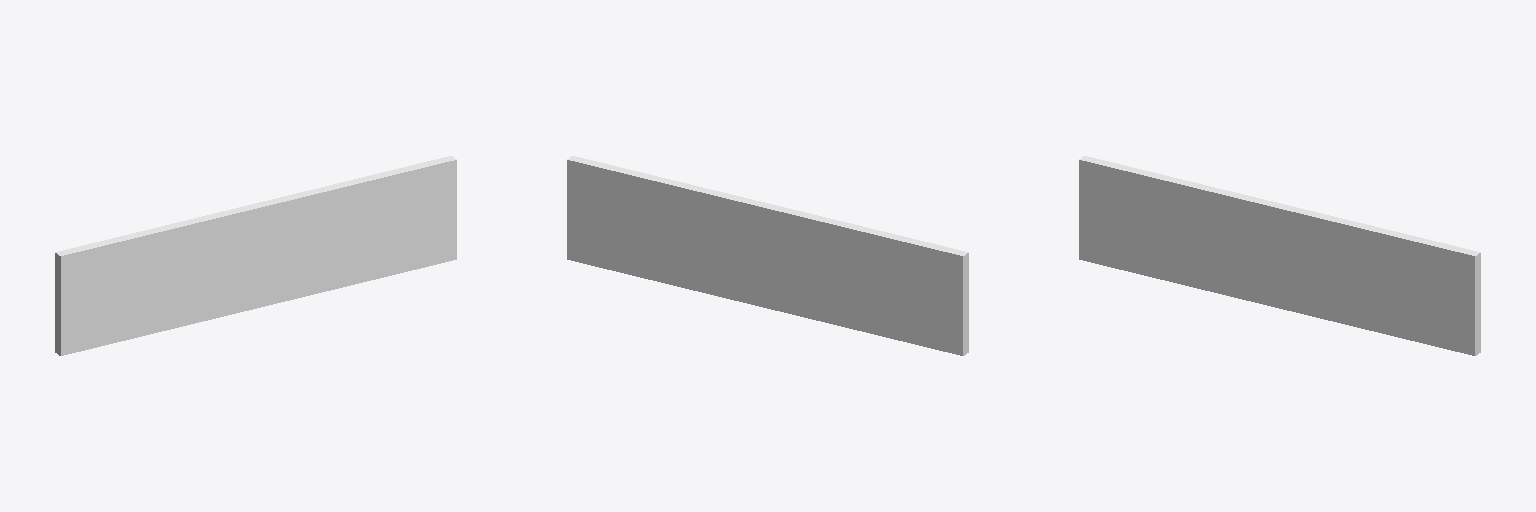
The model's file is AAA.obj.
3 views of the same model, side by side, from view 1: azimuth 30°, elevation 25°; view 2: azimuth 150°, elevation 25°; view 3: azimuth 330°, elevation 25° (orthographic).
Parts seen in each view (by area): view 1: object 1; view 2: object 1; view 3: object 1.
Boxes of the visible parts, x1=… form: object 1: x1=55, y1=156, x2=456, y2=355; object 1: x1=567, y1=156, x2=968, y2=355; object 1: x1=1079, y1=156, x2=1480, y2=355.
Size of the model in its own units: 8.3 by 2 by 0.2.